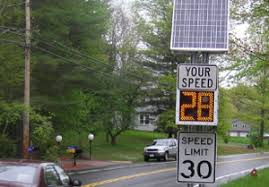speedLimit30: (178, 130, 216, 184)
